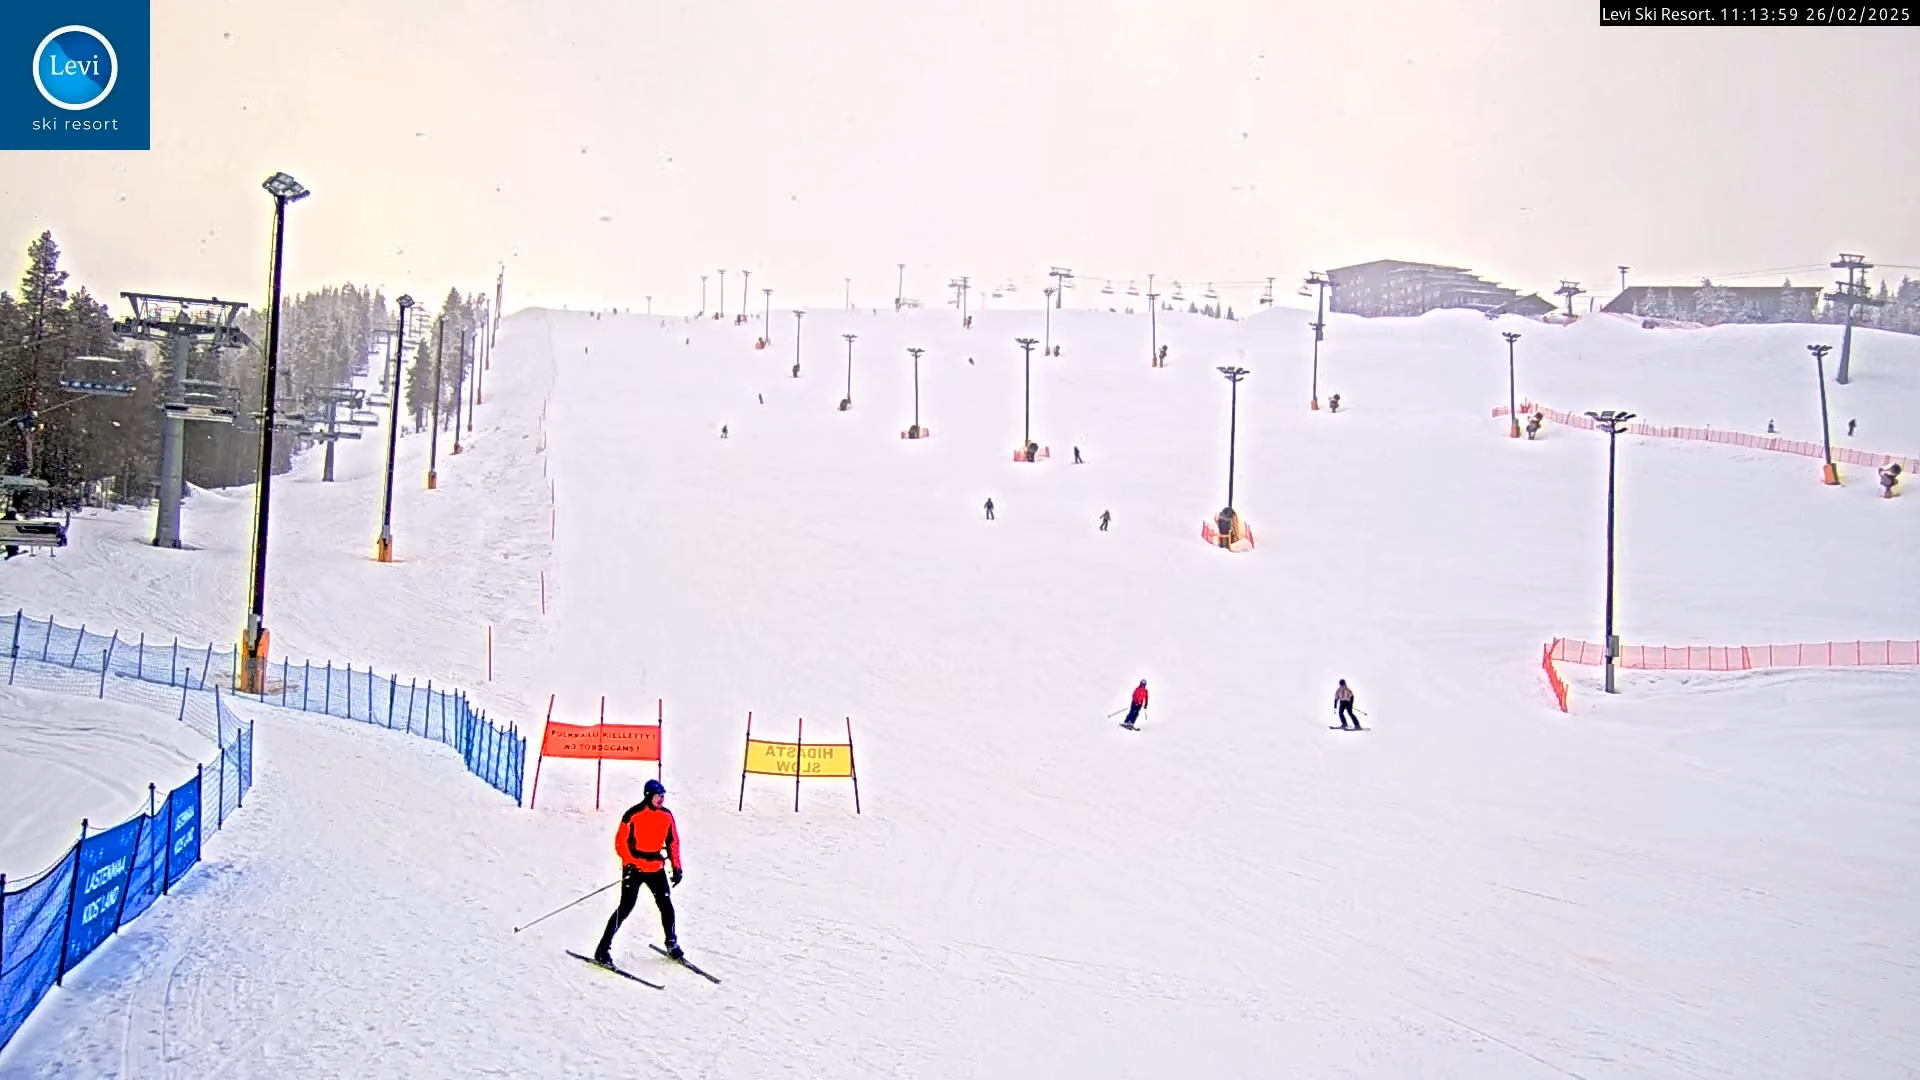skier: (570, 767, 721, 984), (1116, 674, 1156, 732), (1327, 678, 1369, 733)
